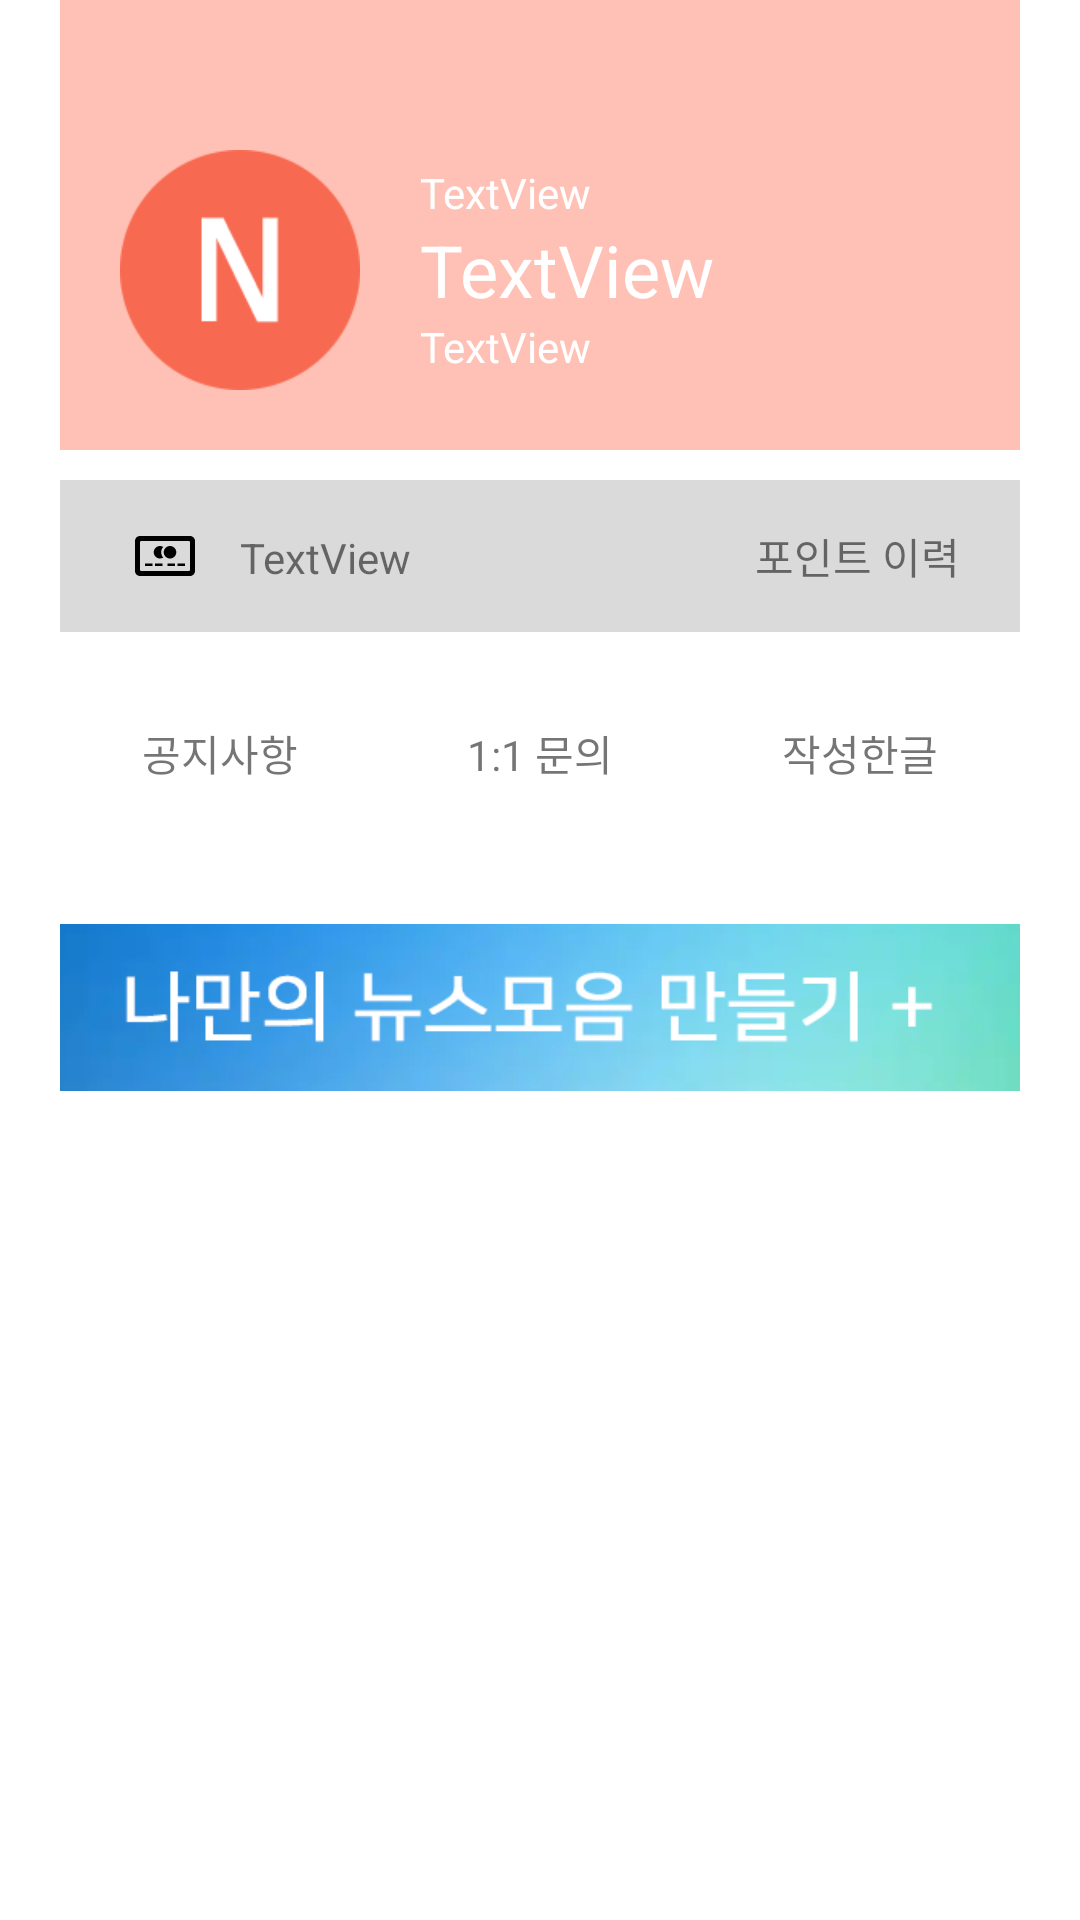

Icons on this 1080 × 1920 Android screen, each with its box as region(x1, y1, x2, y2):
iconmonstr credit card: region(135, 536, 195, 576)
